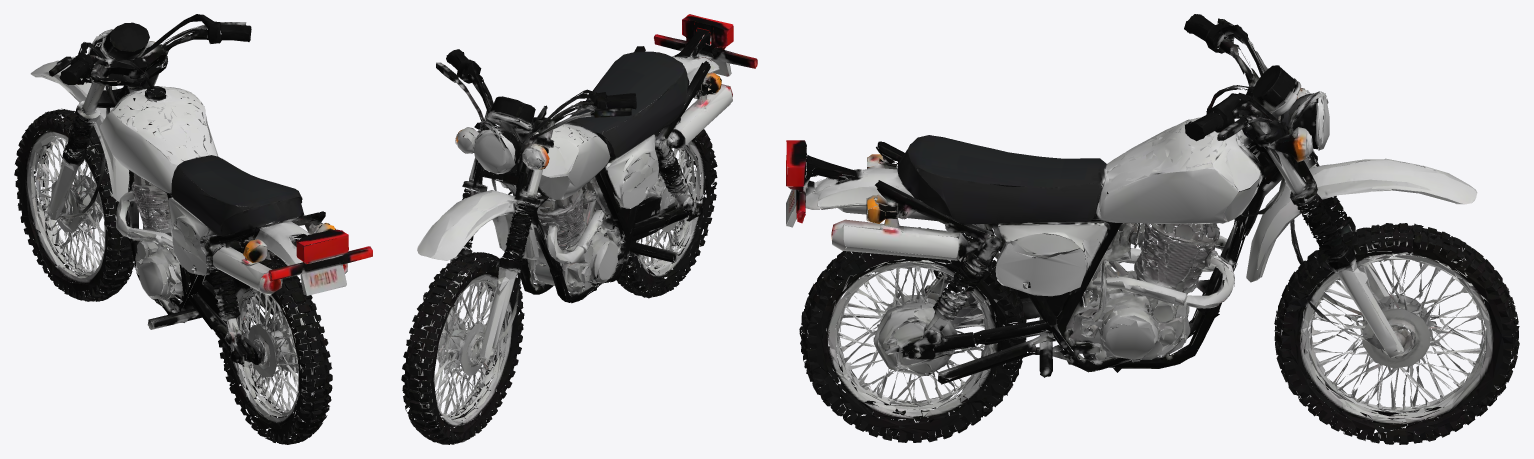
The model's file is bike_vintage.glb.
3 renders of one model, left to right at view 1: azimuth 30°, elevation 25°; view 2: azimuth 150°, elevation 25°; view 3: azimuth 270°, elevation 25°, orthographic. The views are drawn at different scales.
Parts seen in each view (by area): view 1: bike_body, wheel_f, wheel_r; view 2: bike_body, wheel_f, wheel_r; view 3: bike_body, wheel_f, wheel_r.
Boxes of the visible parts, x1,y1,x2,y2 form: bike_body: (30,14,372,412); wheel_f: (14,108,134,301); wheel_r: (210,260,332,444); bike_body: (417,14,757,413); wheel_f: (401,243,524,444); wheel_r: (616,129,717,298); bike_body: (786,14,1481,409); wheel_f: (1274,212,1519,444); wheel_r: (799,232,1028,442).
Size of the model in its own units: 0.9659 by 1.47 by 2.55.
Materials: 1 (1 with a texture image).
